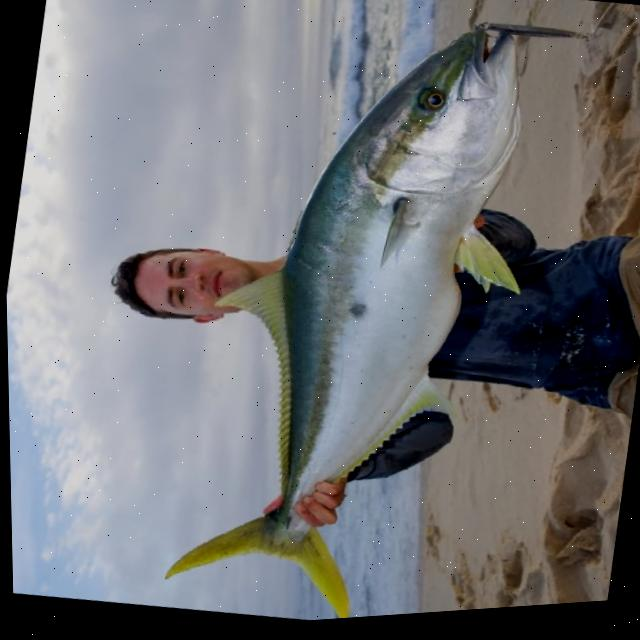Kingfish: (144, 0, 571, 632)
